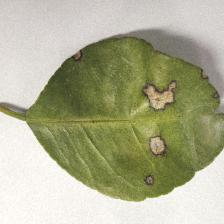canker: (68, 25, 222, 192)
